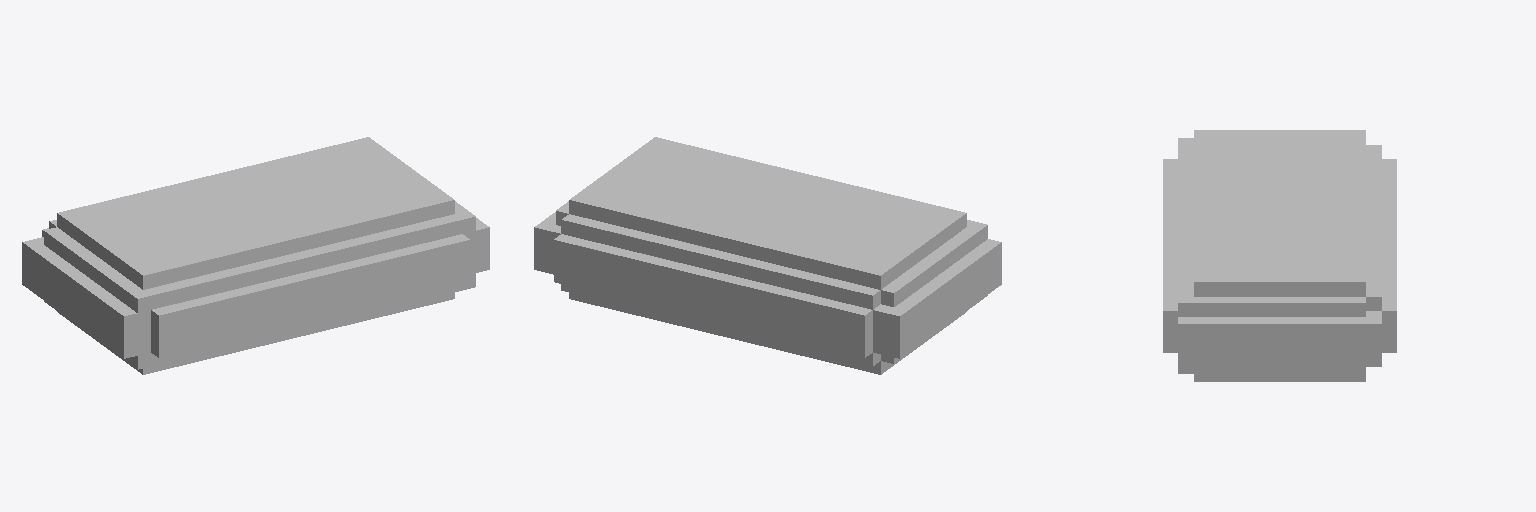
The model's file is gold.obj.
3 renders of one model, left to right at view 1: azimuth 30°, elevation 25°; view 2: azimuth 150°, elevation 25°; view 3: azimuth 270°, elevation 25°, orthographic.
Visible parts, largest first — view 1: gold; view 2: gold; view 3: gold.
Part boxes in pixels (x1,y1,x2,y2): gold: (22, 137, 489, 374); gold: (534, 137, 1001, 374); gold: (1163, 130, 1396, 381).
Bounding box in the file's own units: 27 × 7 × 15.